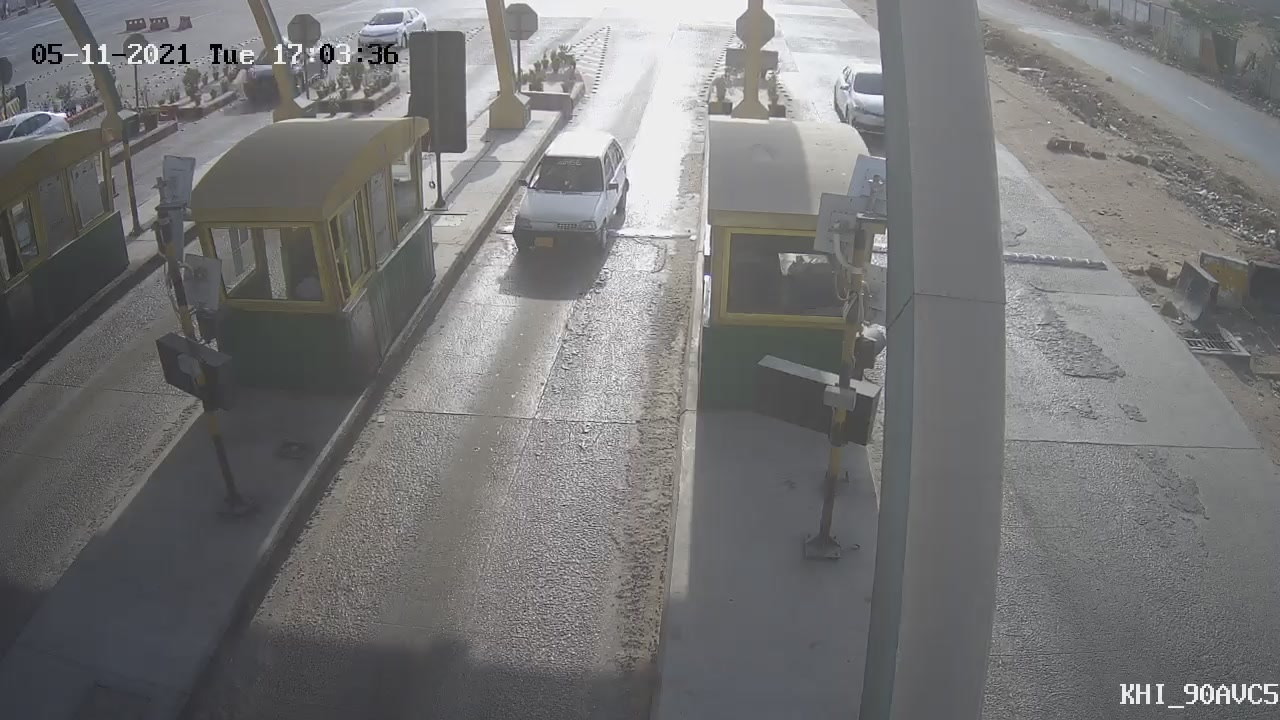F1: (489, 114, 653, 287)
